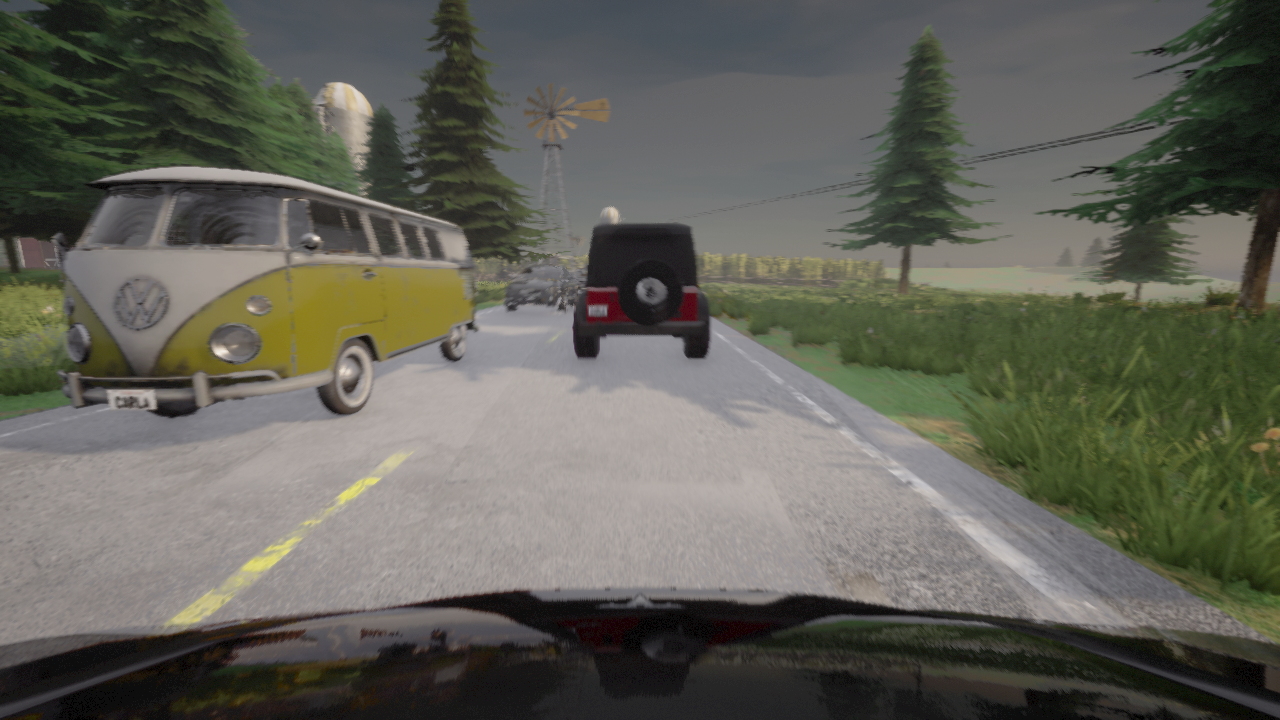cyclist: (0, 588, 1279, 719), (52, 166, 478, 416), (573, 224, 709, 357), (504, 265, 577, 311), (571, 267, 587, 290), (500, 268, 517, 280)
